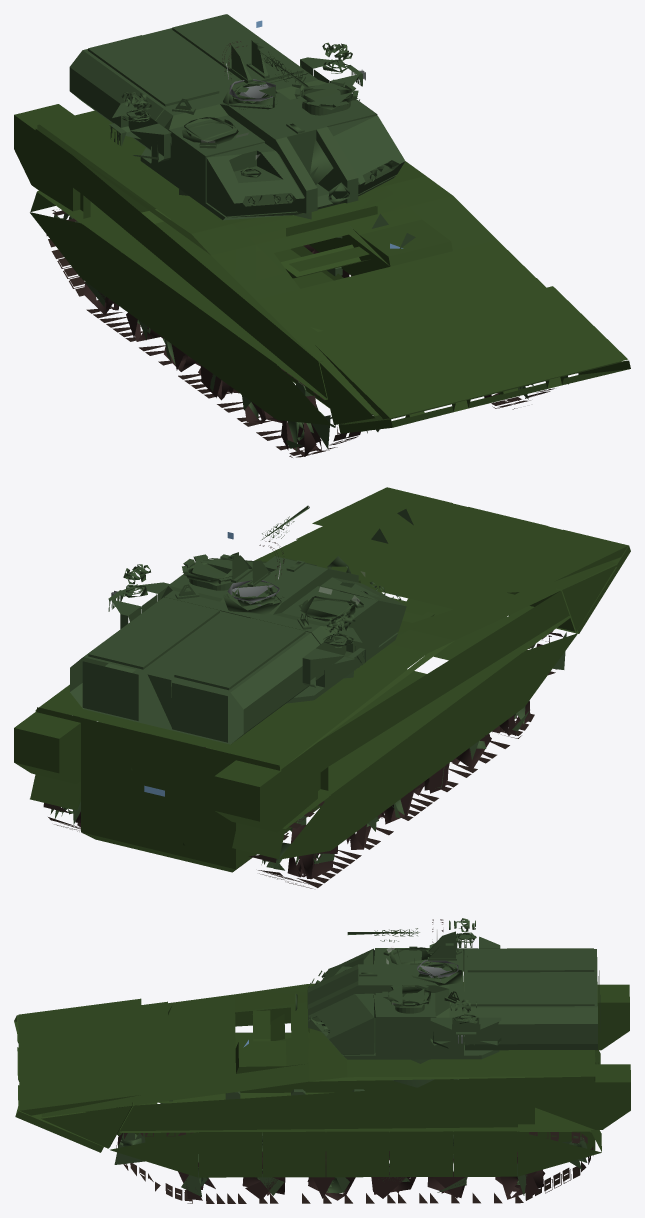
Rendered from lod1_ztd05.glb.
The picture shows the model from 3 angles, top to bottom: view 1: azimuth 30°, elevation 25°; view 2: azimuth 150°, elevation 25°; view 3: azimuth 270°, elevation 25°; orthographic projection. The views are drawn at different scales.
Visible parts, largest first — view 1: Object_10; view 2: Object_10; view 3: Object_10.
Part boxes in pixels (left/top/right/bottom): Object_10: left=14, top=14, right=630, bottom=457; Object_10: left=14, top=487, right=630, bottom=888; Object_10: left=14, top=918, right=630, bottom=1203.
Bounding box in the file's own units: 3.66 × 4.04 × 9.47.
Materials: 2 (2 with a texture image).
